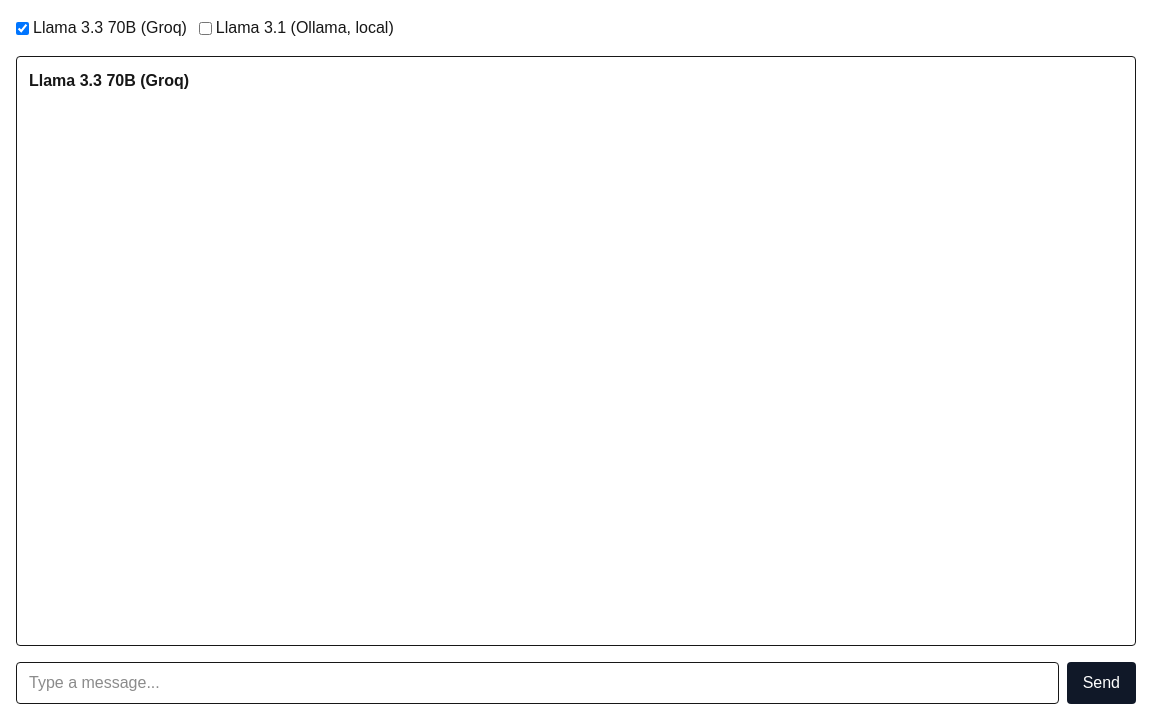
Test: ChatPage › disables the submit button when no models are selected
The image size is (1152, 720).
Click the checkbox labelled "Llama 3.3 70B (Groq)": coordinates (22, 28) [16,22,29,34]
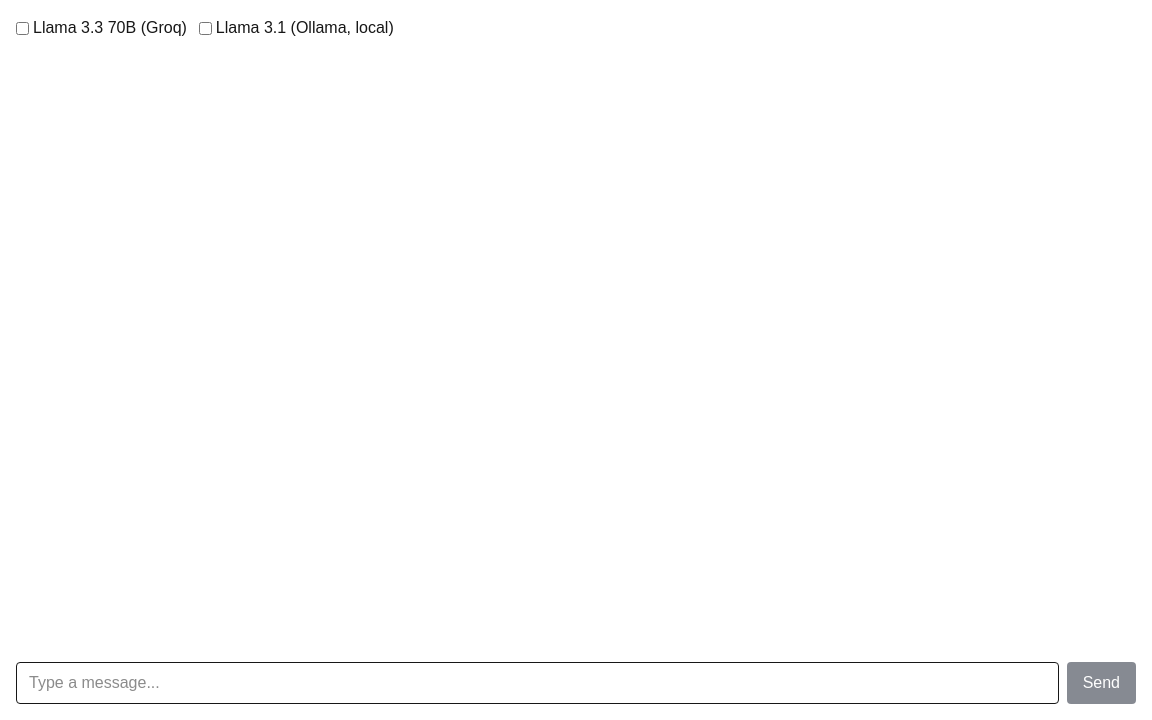
Check: the button "Send" is disabled, box [1067,662,1136,704]
